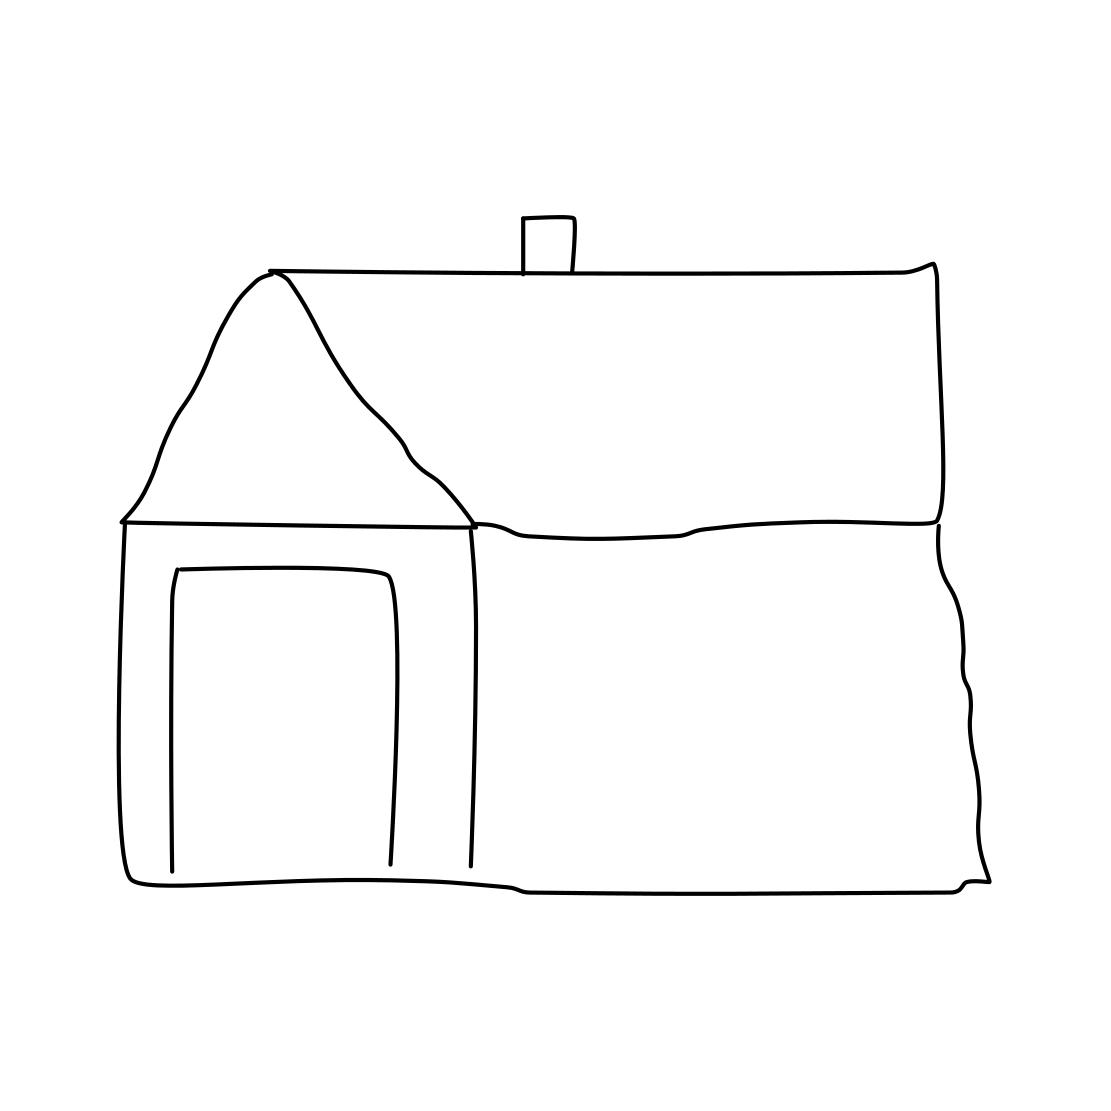House: (75, 176, 1045, 959)
